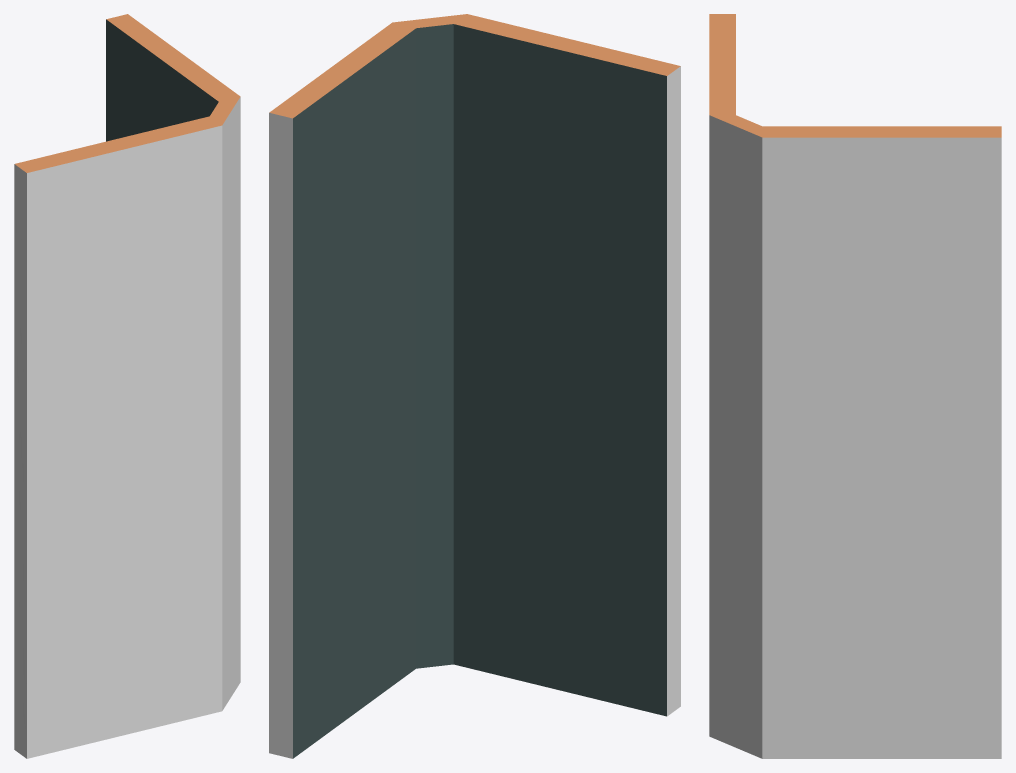
3 renders of one model, left to right at view 1: azimuth 30°, elevation 25°; view 2: azimuth 150°, elevation 25°; view 3: azimuth 270°, elevation 25°, orthographic. The views are drawn at different scales.
Parts seen in each view (by area): view 1: wallCorner(Clone); view 2: wallCorner(Clone); view 3: wallCorner(Clone).
Boxes of the visible parts, x1,y1,x2,y2 form: wallCorner(Clone): [14, 14, 240, 758]; wallCorner(Clone): [269, 14, 680, 758]; wallCorner(Clone): [709, 14, 1001, 758].
Size of the model in its own units: 0.55 by 1.29 by 0.55.
